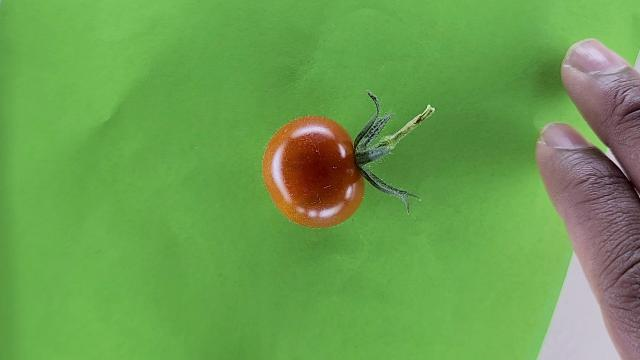Fully Grown: (261, 114, 367, 227)
